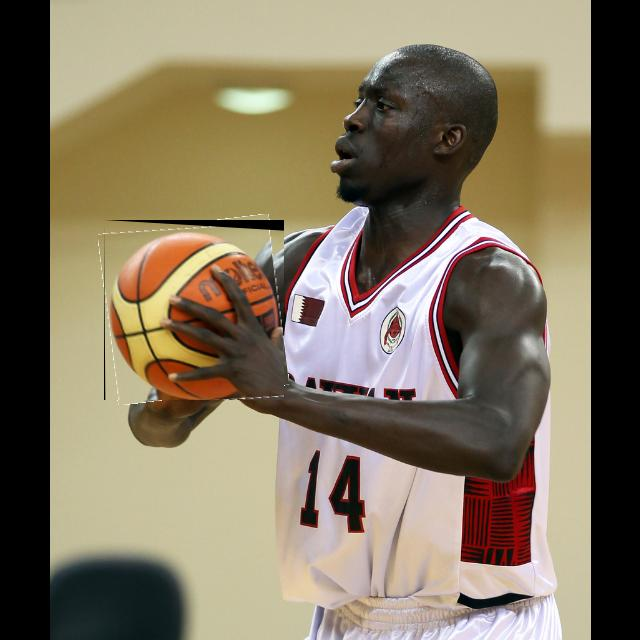Football: (104, 220, 284, 400)
